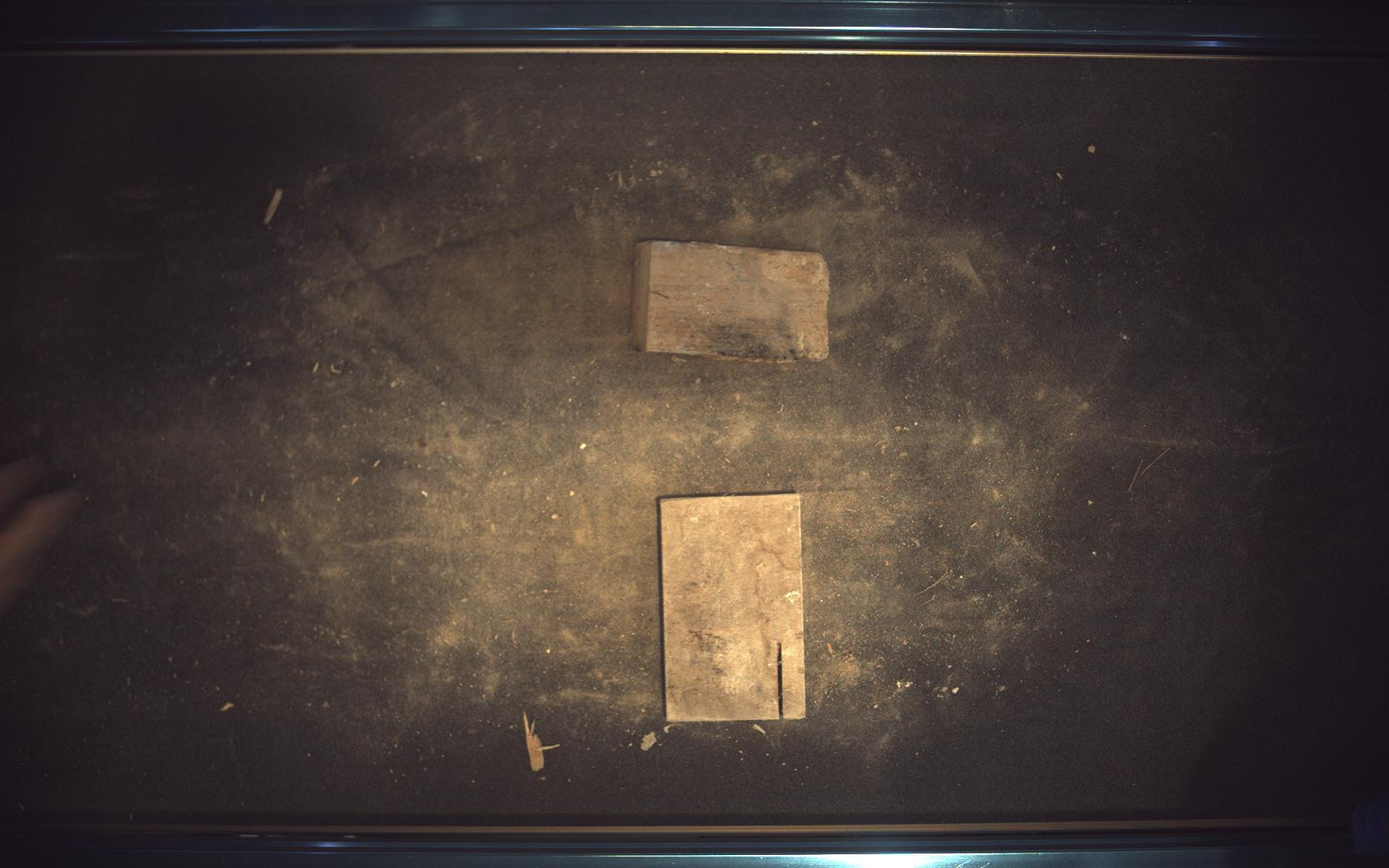wood: (660, 495, 807, 723), (633, 240, 831, 360)
